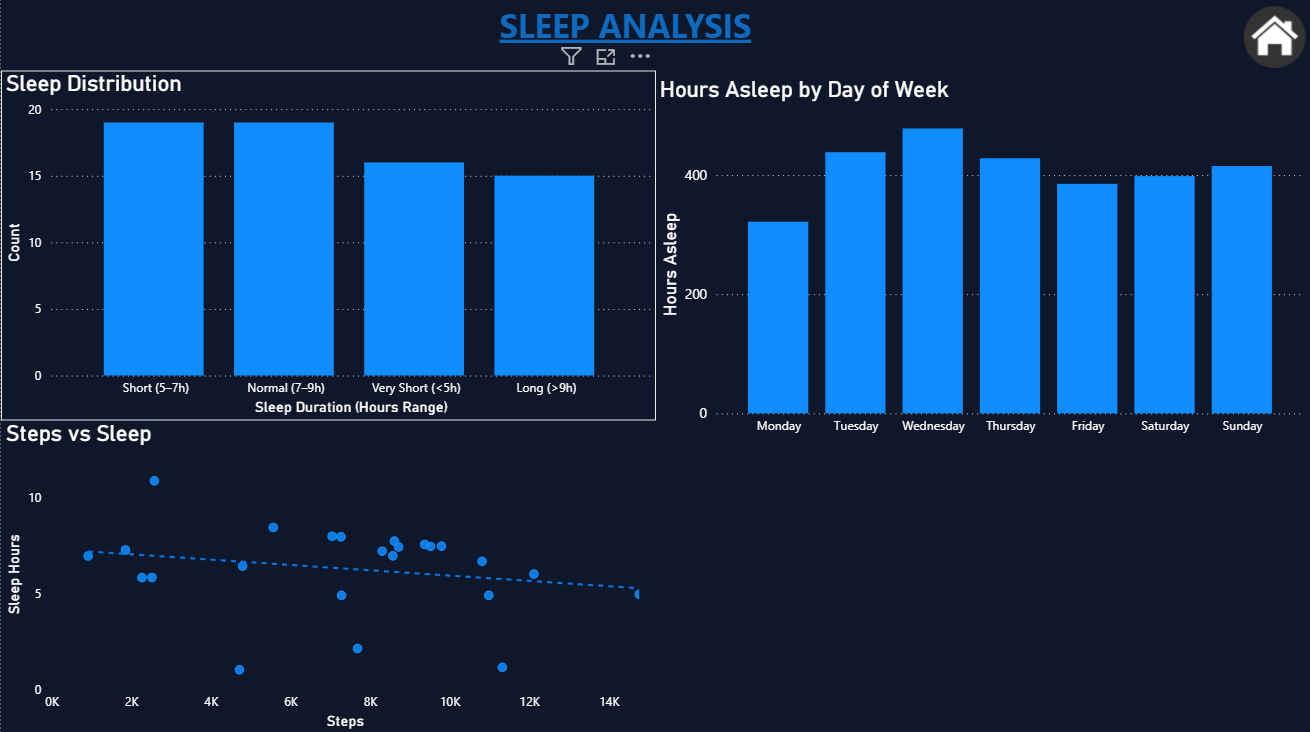

Layout of this report page (visuals, bound fields, positions):
{"tool":"powerbi","page":{"name":"Sleep Analysis","canvas":[1280,720],"ordinal":2},"visuals":[{"type":"columnChart","title":"Sleep Distribution","fields":{"Y":["CountNonNull(Users_Table.Customer_ID)"],"Category":["Sleep_day.Sleep_Category"]},"box":[0,70.9,640.8,342.4],"z":0},{"type":"columnChart","title":"Hours Asleep by Day of Week","fields":{"Category":["Date_Table.Day of Week"],"Y":["Sum(Sleep_day.Sleep_Hours)"]},"box":[639.5,77,640.8,359.5],"z":1000},{"type":"scatterChart","title":"Steps vs Sleep","fields":{"Category":["Users_Table.Customer_ID"],"X":["Avg(Daily_activity.Total_Steps)"],"Y":["_Measures.Avg Sleep Hours"]},"box":[0,413.3,639.5,306.9],"z":2000},{"type":"textbox","box":[291,0,639.5,64.8],"z":2001},{"type":"actionButton","box":[1211.5,0,68.5,77],"z":2002}]}

Visuals, with their boxes in screenshot pixels (x1, y1, x2, y2), scaled from the page's 1280x720 canvas onto the 1310x732 screenshot:
"Sleep Distribution" columnChart: 0 72 656 420
"Hours Asleep by Day of Week" columnChart: 654 78 1309 444
"Steps vs Sleep" scatterChart: 0 420 654 731
textbox: 298 0 952 66
actionButton: 1240 0 1309 78
